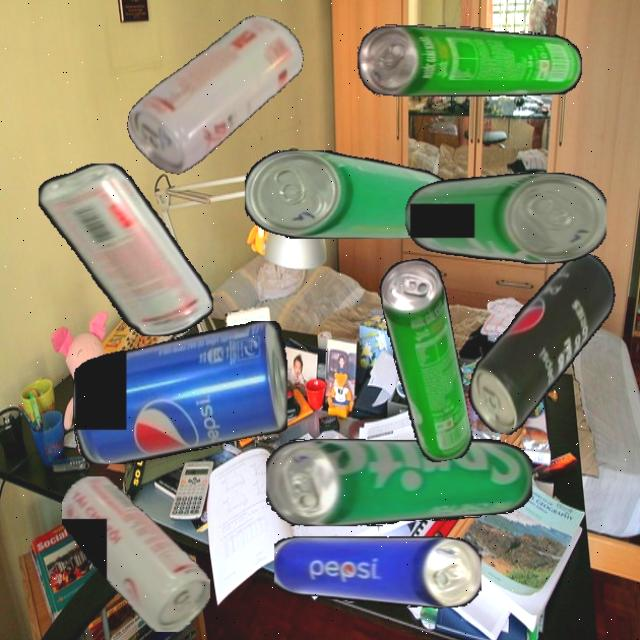debris: (121, 0, 309, 192), (463, 239, 621, 448), (72, 320, 288, 464), (38, 164, 213, 336), (266, 438, 532, 526), (62, 475, 210, 632), (376, 255, 475, 466), (245, 149, 454, 239), (404, 173, 606, 264), (358, 24, 582, 96), (273, 536, 482, 608)
